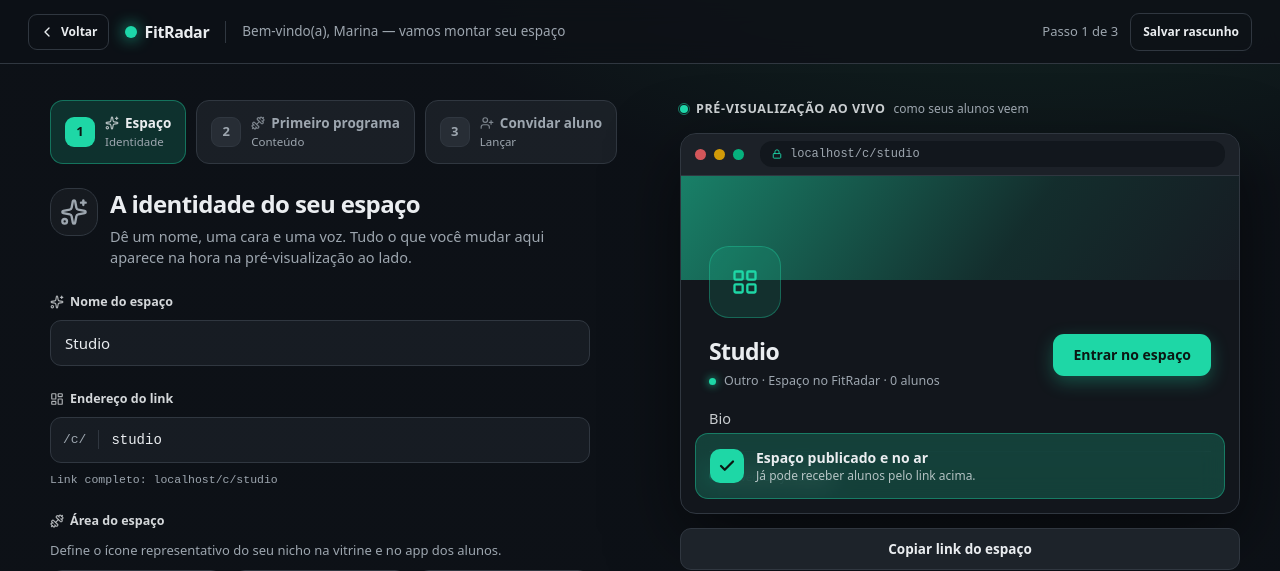
SpaceBuilderPage › shows invite step with copy link
The image size is (1280, 571).
Click the button "3 Convidar aluno Lançar": (521, 132) top-left (425, 100), bottom-right (617, 164)
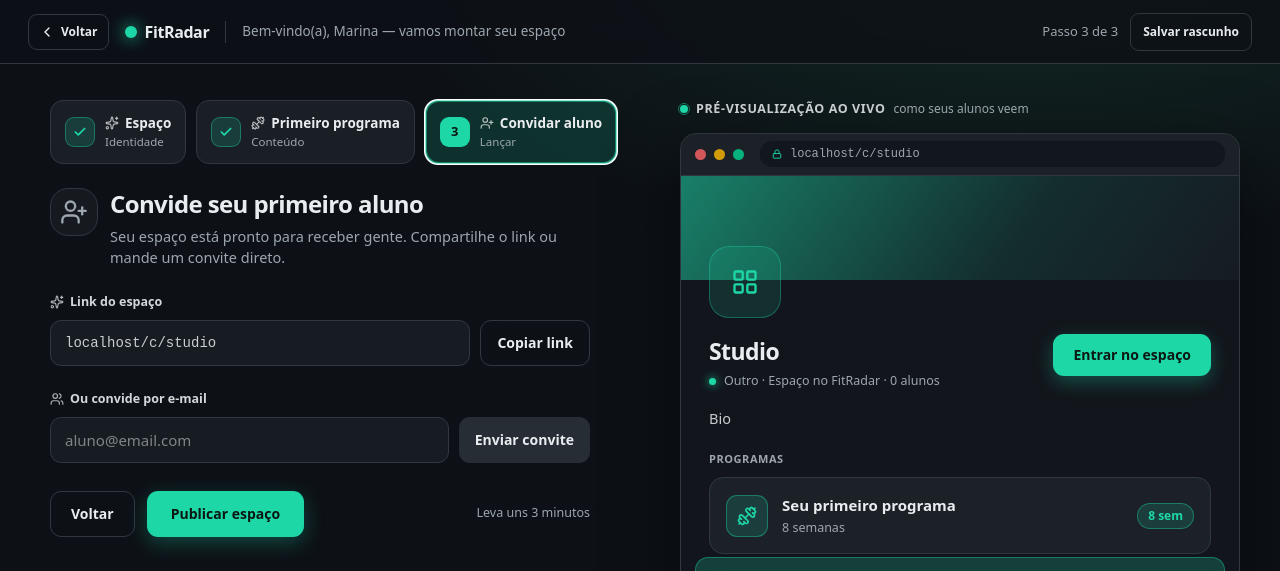
expect the heading "Convide seu primeiro aluno" is shown: met, box top-left (110, 186), bottom-right (423, 220)
